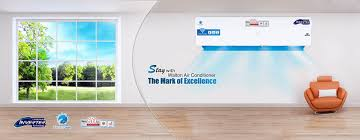ac: (192, 14, 315, 56)
